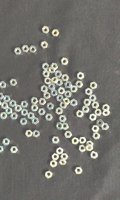nut: (91, 151, 99, 160), (45, 171, 53, 179), (75, 167, 83, 175), (61, 153, 69, 161), (86, 144, 94, 152), (79, 137, 87, 145), (64, 131, 72, 139), (59, 115, 67, 123), (20, 118, 28, 126), (27, 112, 35, 120), (0, 112, 8, 120), (5, 107, 13, 115), (9, 100, 17, 108), (3, 95, 11, 103), (76, 110, 84, 118), (58, 87, 66, 95), (85, 88, 93, 96), (90, 82, 98, 90), (77, 72, 85, 80), (62, 74, 70, 82), (42, 70, 50, 78), (42, 26, 50, 34), (96, 120, 105, 127), (101, 124, 110, 131), (59, 102, 68, 109), (10, 147, 18, 154), (3, 138, 10, 146), (59, 159, 67, 166), (56, 148, 64, 155), (26, 130, 33, 138), (33, 130, 40, 138), (52, 137, 60, 144), (79, 145, 86, 153), (93, 133, 101, 140), (92, 126, 100, 133), (56, 123, 64, 130), (62, 123, 69, 131), (32, 117, 39, 125), (21, 109, 28, 117), (10, 113, 18, 120), (45, 114, 53, 121), (90, 114, 97, 122), (31, 105, 39, 112), (31, 97, 38, 105), (1, 102, 8, 110), (10, 79, 18, 86), (38, 109, 46, 116), (39, 98, 46, 106), (95, 109, 102, 117), (103, 109, 111, 116), (82, 106, 90, 113), (92, 102, 100, 109), (84, 99, 92, 106), (89, 95, 97, 102), (63, 98, 71, 105), (71, 99, 78, 107), (56, 95, 64, 102), (51, 89, 58, 97), (41, 85, 48, 93), (48, 83, 55, 91), (70, 86, 78, 93), (76, 81, 84, 88), (65, 81, 72, 89), (56, 79, 64, 86), (45, 77, 52, 85), (51, 77, 59, 84), (51, 63, 59, 70), (42, 63, 49, 71), (61, 58, 69, 65), (14, 48, 22, 55), (22, 45, 29, 53), (29, 46, 37, 53), (41, 41, 48, 49), (52, 30, 60, 37), (50, 161, 57, 168), (52, 154, 59, 161), (87, 141, 94, 148), (72, 138, 79, 145), (21, 101, 28, 108), (15, 105, 22, 112), (56, 108, 63, 115), (47, 103, 54, 110), (103, 104, 110, 111), (44, 92, 51, 99), (65, 91, 72, 98), (55, 71, 62, 78), (49, 67, 56, 74), (0, 81, 6, 89), (0, 146, 4, 153), (0, 93, 4, 100), (0, 100, 2, 107)
